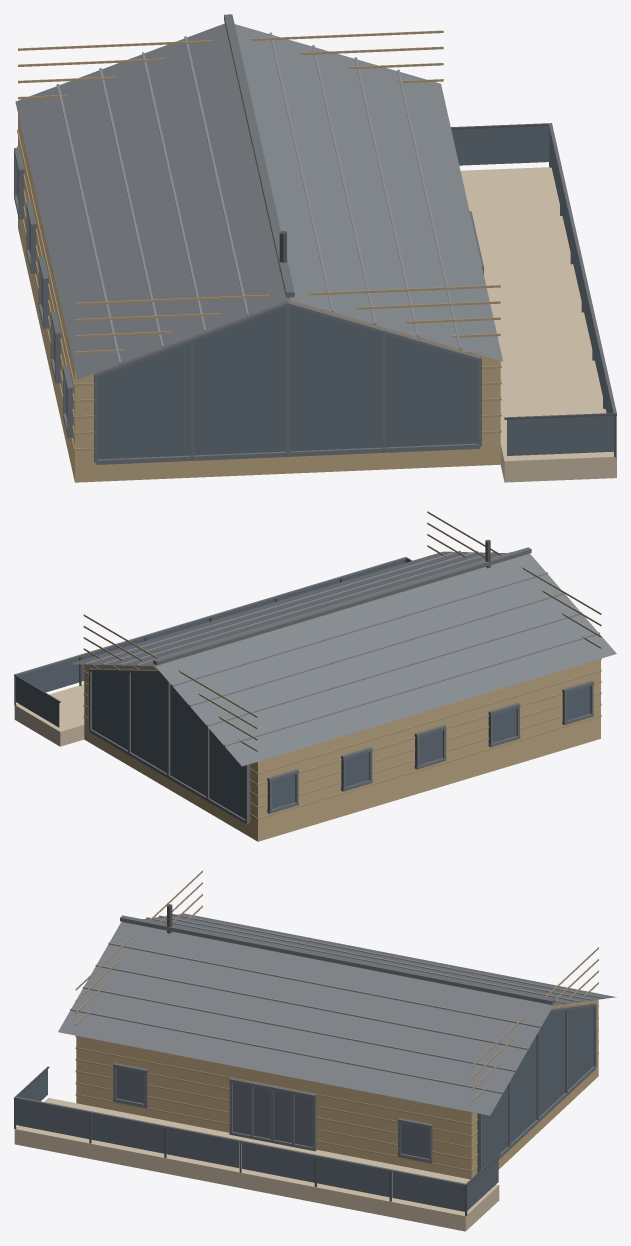
3 renders of one model, top to bottom at view 1: azimuth 30°, elevation 25°; view 2: azimuth 150°, elevation 25°; view 3: azimuth 270°, elevation 25°, orthographic. The views are drawn at different scales.
Visible parts, largest first — view 1: slate, window_glass_016, larch, slate_dk, door_wood, door_wood_p, slate_lt, window_glass_007, window_glass_008, pipe; view 2: slate, door_wood, window_glass_015, slate_dk, slate_lt, door_wood_p, larch, window_glass_006, window_glass_008, window_glass_018, window_glass_019, window_glass_021 (+3 smaller); view 3: slate, door_wood, larch, slate_dk, slate_lt, window_glass_015, door_wood_p, window_glass_001, window_glass_002, window_glass_003, window_glass_005, window_glass_004 (+10 smaller).
Part boxes in pixels (x1,y1,x2,y2): slate: [15, 23, 502, 379]; window_glass_016: [98, 307, 477, 459]; larch: [460, 167, 616, 482]; slate_dk: [14, 14, 616, 464]; door_wood: [18, 114, 500, 482]; door_wood_p: [17, 30, 501, 450]; slate_lt: [56, 32, 461, 363]; window_glass_007: [507, 415, 613, 455]; window_glass_008: [451, 126, 549, 165]; pipe: [279, 123, 616, 457]; slate: [68, 551, 616, 766]; door_wood: [84, 659, 600, 841]; window_glass_015: [92, 671, 245, 818]; slate_dk: [15, 547, 593, 824]; slate_lt: [85, 550, 599, 746]; door_wood_p: [83, 511, 601, 819]; larch: [14, 684, 84, 746]; window_glass_006: [18, 657, 79, 692]; window_glass_008: [15, 677, 59, 727]; window_glass_018: [345, 752, 369, 786]; window_glass_019: [419, 730, 442, 764]; window_glass_021: [567, 686, 590, 720]; slate: [58, 913, 616, 1115]; door_wood: [76, 999, 598, 1179]; larch: [14, 1098, 499, 1231]; slate_dk: [15, 915, 596, 1185]; slate_lt: [70, 913, 604, 1093]; window_glass_015: [482, 1007, 593, 1168]; door_wood_p: [75, 870, 598, 1172]; window_glass_001: [16, 1099, 89, 1138]; window_glass_002: [91, 1114, 164, 1153]; window_glass_003: [166, 1128, 239, 1167]; window_glass_005: [317, 1157, 389, 1197]; window_glass_004: [242, 1143, 314, 1182].
Bounding box in the file's own units: 16.46 × 5.21 × 17.82.
